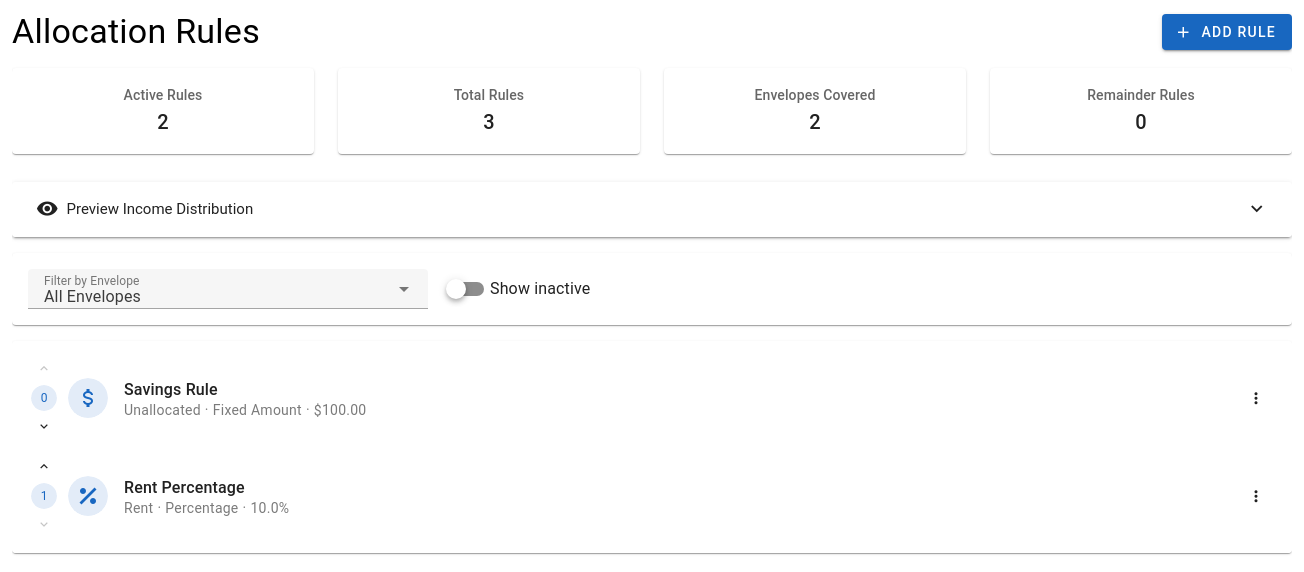
Test: AllocationRulesView › filter by envelope shows only matching rules
The image size is (1304, 572).
Note: Open the envelope filter v-select by clicking its control area
Step 1. Press the mouse on the element showing "All Envelopes" → (92, 296), box [44,287,141,306]
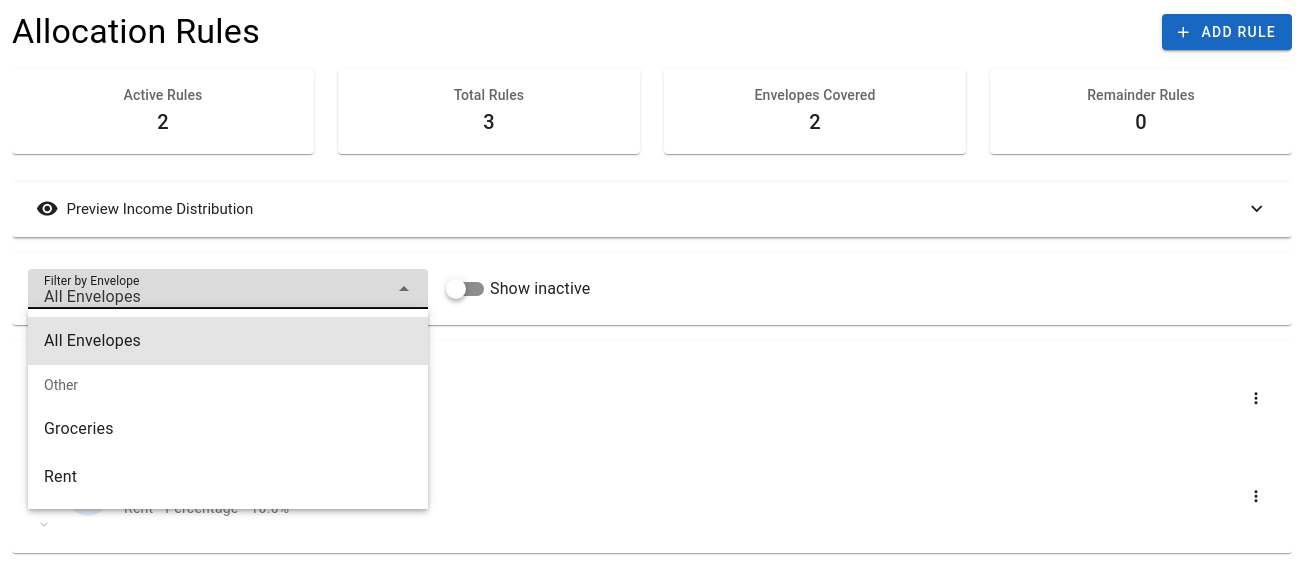
Expected: the option "Rent" is shown
Step 2. Click the option "Rent" → (60, 476), box [44,467,77,486]
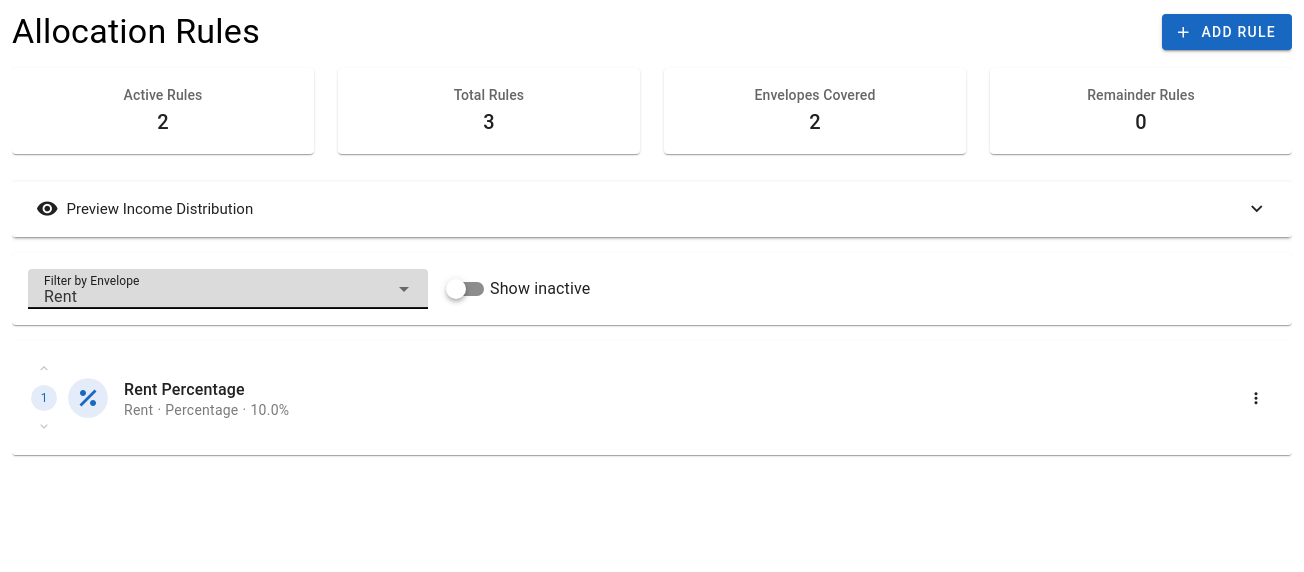
Expected: the text "Rent Percentage" is shown, [124,380,245,399]
Expected: the text "Savings Rule" is gone
